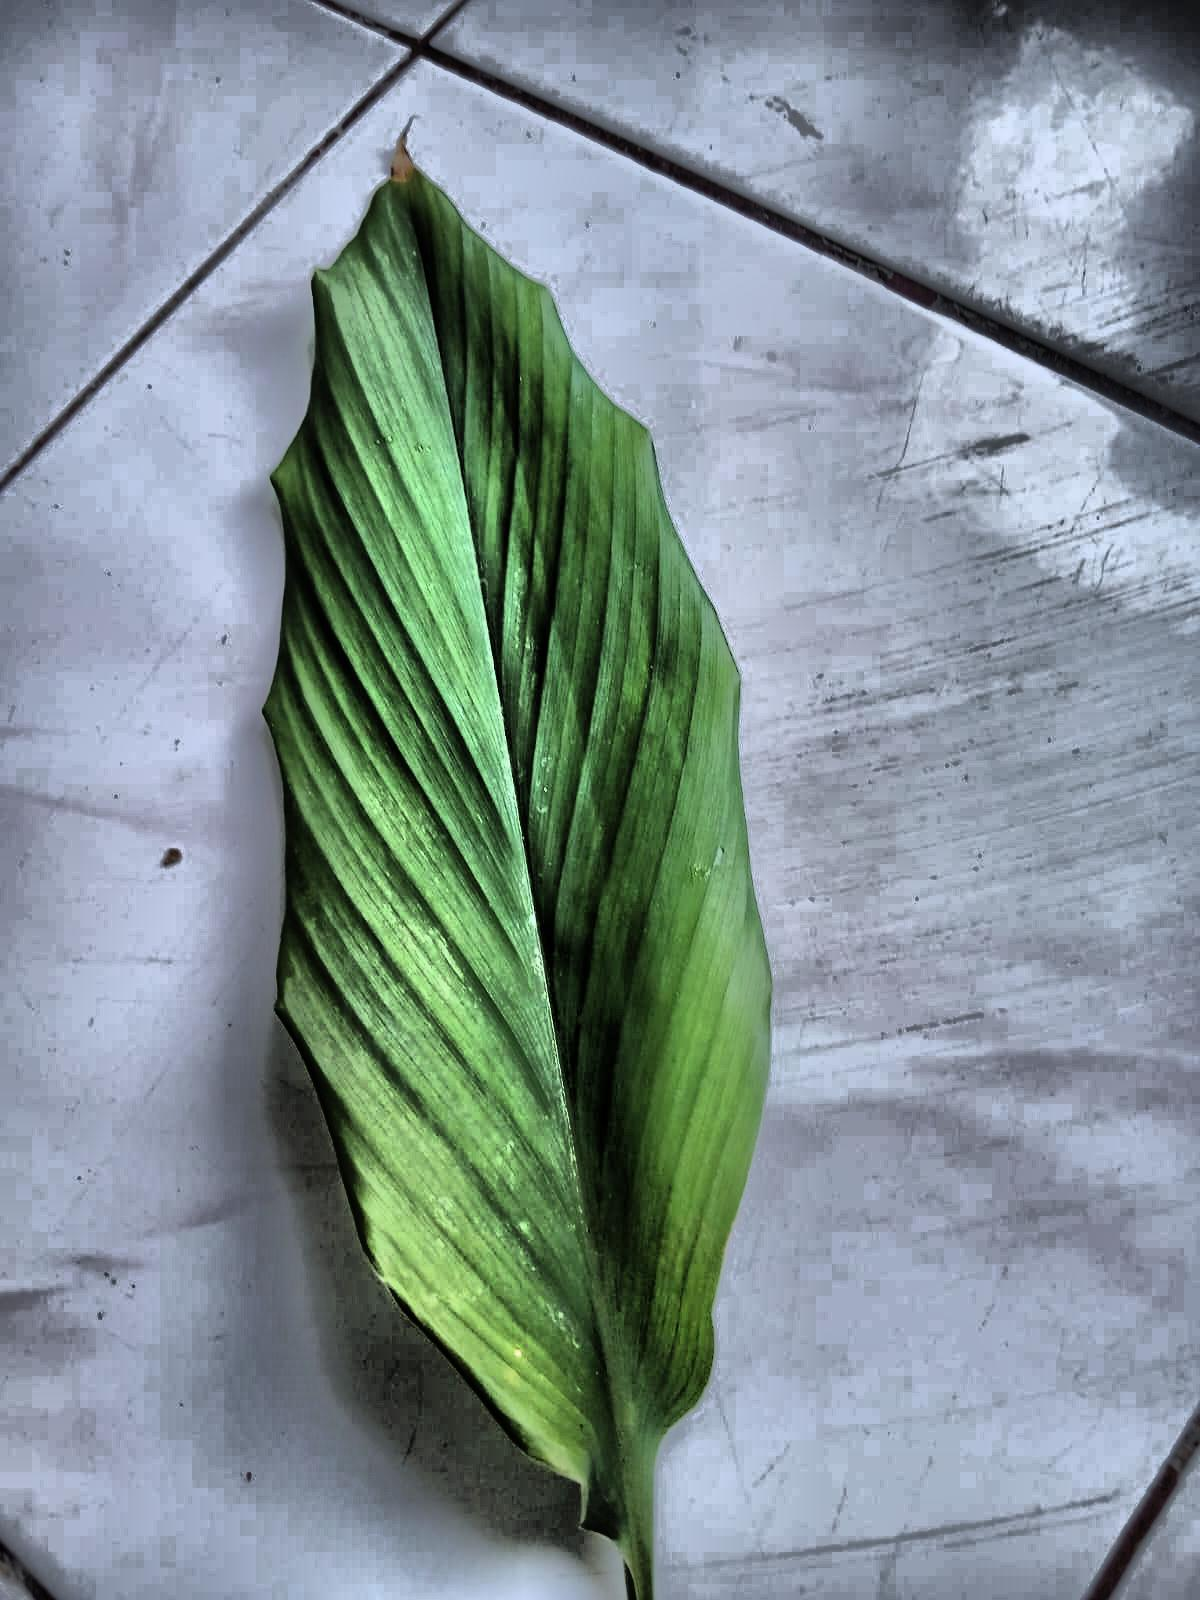daun kunyit: (263, 147, 771, 1599)
